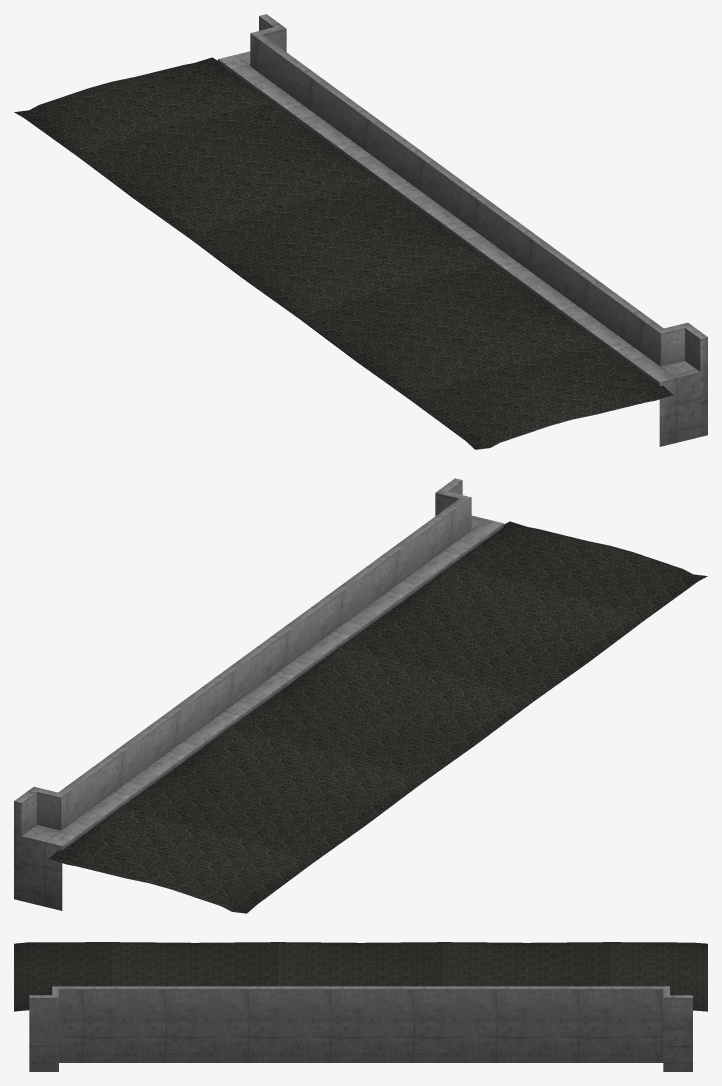
Rendered from KH_KOUKA_L100.glb.
3 views of the same model, one above another, from view 1: azimuth 30°, elevation 25°; view 2: azimuth 150°, elevation 25°; view 3: azimuth 270°, elevation 25° (orthographic). The views are drawn at different scales.
Parts seen in each view (by area): view 1: Left; view 2: Left; view 3: Left.
Part boxes in pixels (x1,y1,x2,y2): Left: (14,14,707,449); Left: (14,478,707,913); Left: (14,942,707,1071).
Bounding box in the file's own units: 31.76 × 12.26 × 105.
2 materials, 2 textured.
